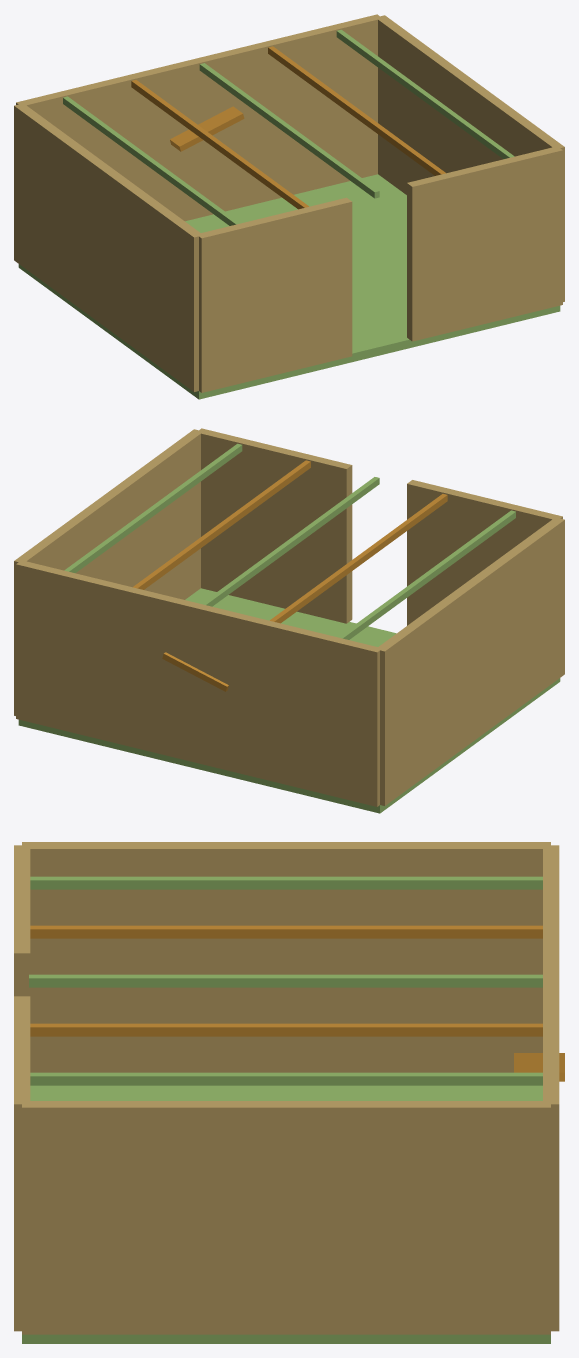
File: river_bee_pavilion.glb
3 renders of one model, top to bottom at view 1: azimuth 30°, elevation 25°; view 2: azimuth 150°, elevation 25°; view 3: azimuth 270°, elevation 25°, orthographic. The views are drawn at different scales.
Visible parts, largest first — view 1: wall_north, wall_west, wall_south_right, wall_south_left, wall_east, floor, ceiling_beam_0, ceiling_beam_2, ceiling_beam_-1, ceiling_beam_1, ceiling_beam_-2, purpose_beekeeper_pavilion; view 2: wall_north, wall_west, wall_south_right, wall_east, wall_south_left, floor, ceiling_beam_0, ceiling_beam_2, ceiling_beam_-1, ceiling_beam_1, ceiling_beam_-2, purpose_beekeeper_pavilion; view 3: wall_east, wall_west, floor, ceiling_beam_0, ceiling_beam_-2, ceiling_beam_-1, ceiling_beam_1, ceiling_beam_2, wall_north, wall_south_right, wall_south_left, purpose_beekeeper_pavilion.
Part boxes in pixels (left/top/right/bottom): wall_north: left=16, top=14, right=382, bottom=221; wall_west: left=14, top=104, right=203, bottom=391; wall_south_right: left=407, top=146, right=562, bottom=341; wall_south_left: left=199, top=197, right=352, bottom=392; wall_east: left=377, top=15, right=564, bottom=301; floor: left=18, top=174, right=560, bottom=399; ceiling_beam_0: left=199, top=63, right=379, bottom=198; ceiling_beam_2: left=336, top=29, right=514, bottom=159; ceiling_beam_-1: left=131, top=80, right=308, bottom=209; ceiling_beam_1: left=268, top=46, right=445, bottom=175; ceiling_beam_-2: left=63, top=96, right=240, bottom=225; purpose_beekeeper_pavilion: left=170, top=106, right=244, bottom=151; wall_north: left=16, top=561, right=382, bottom=806; wall_west: left=376, top=517, right=564, bottom=805; wall_south_right: left=197, top=428, right=352, bottom=623; wall_east: left=14, top=429, right=203, bottom=715; wall_south_left: left=407, top=480, right=562, bottom=625; floor: left=18, top=588, right=560, bottom=813; ceiling_beam_0: left=201, top=477, right=379, bottom=606; ceiling_beam_2: left=64, top=443, right=242, bottom=573; ceiling_beam_-1: left=270, top=494, right=447, bottom=623; ceiling_beam_1: left=133, top=460, right=310, bottom=589; ceiling_beam_-2: left=338, top=510, right=515, bottom=639; purpose_beekeeper_pavilion: left=162, top=652, right=228, bottom=691; wall_east: left=22, top=1101, right=550, bottom=1334; wall_west: left=22, top=842, right=550, bottom=1072; floor: left=22, top=1085, right=550, bottom=1343; ceiling_beam_0: left=29, top=974, right=542, bottom=987; ceiling_beam_-2: left=30, top=876, right=542, bottom=889; ceiling_beam_-1: left=30, top=925, right=542, bottom=938; ceiling_beam_1: left=30, top=1023, right=542, bottom=1036; ceiling_beam_2: left=30, top=1072, right=542, bottom=1085; wall_north: left=543, top=845, right=559, bottom=1331; wall_south_right: left=14, top=996, right=30, bottom=1331; wall_south_left: left=14, top=845, right=30, bottom=996; purpose_beekeeper_pavilion: left=514, top=1053, right=564, bottom=1081.
Size of what is drawn, in the model's own units: 13.55 by 5.7 by 11.88.
